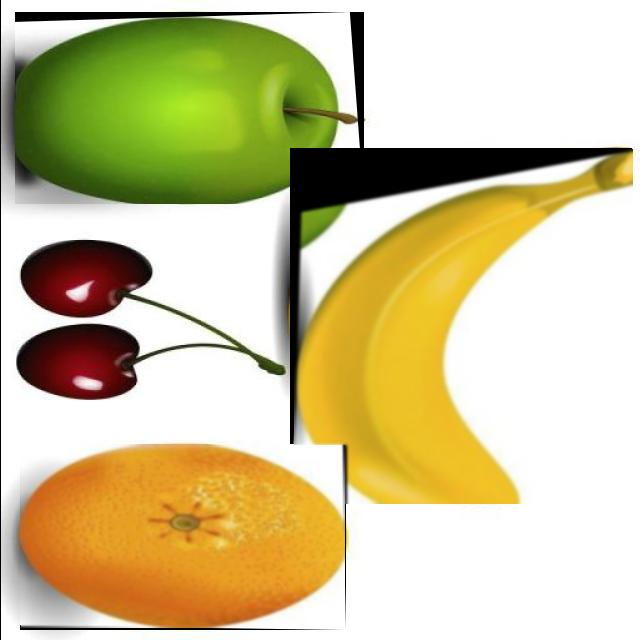Apple: (14, 16, 357, 204)
Banana: (293, 149, 631, 503)
Orange: (20, 445, 343, 627)
